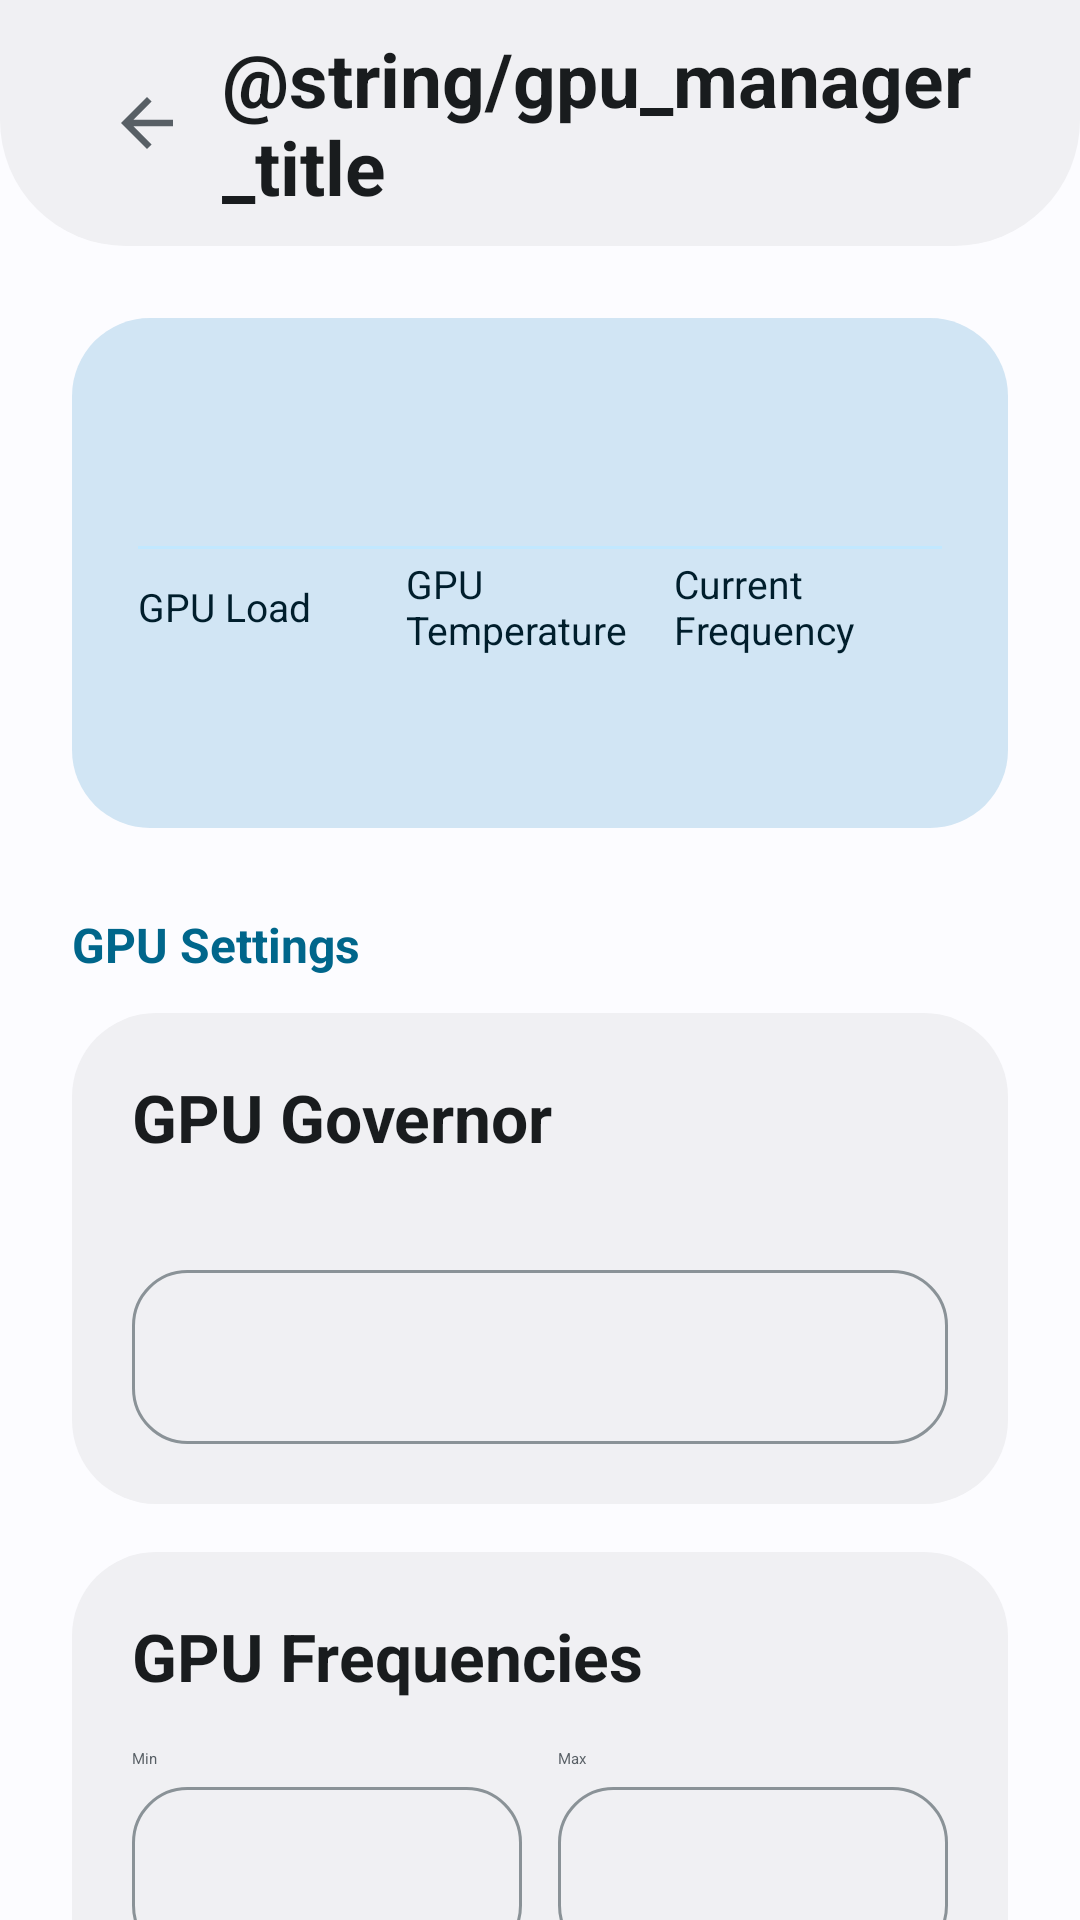

Icons on this 1080px x 1920px Android screen, each with its box as (x1, y1, x2, y2):
arrow back: (121, 97, 173, 149)
